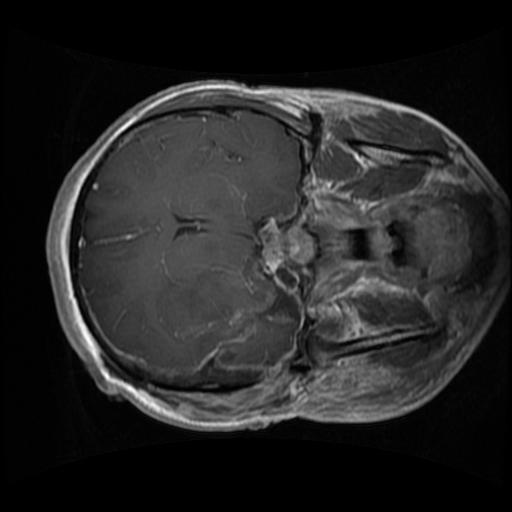glioma: (154, 265, 294, 385)
